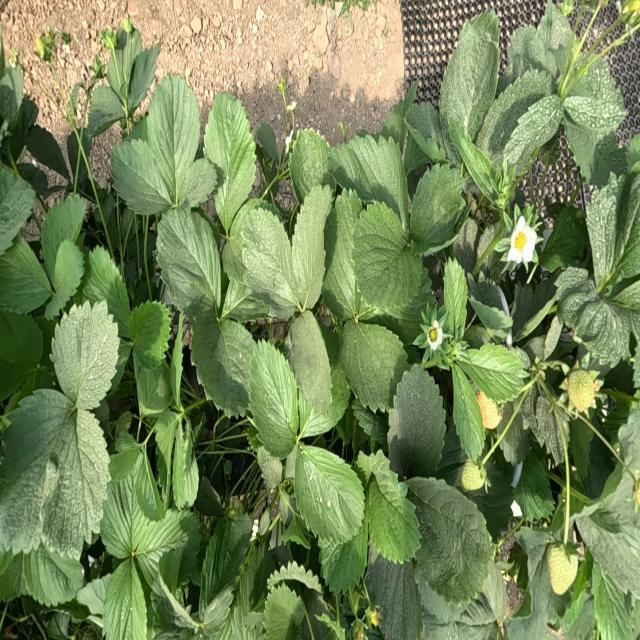Flowers: (508, 216, 538, 266), (476, 391, 502, 429), (285, 129, 294, 152), (288, 101, 296, 110)
Leaves: (0, 392, 109, 555), (406, 477, 491, 606), (439, 11, 499, 148), (223, 207, 297, 318), (353, 202, 423, 316), (577, 474, 639, 594), (329, 134, 408, 226), (51, 300, 118, 408), (556, 267, 629, 366), (205, 536, 275, 639), (204, 92, 255, 230), (156, 208, 221, 314), (295, 446, 364, 545), (191, 309, 255, 415), (479, 70, 552, 162), (388, 364, 446, 477), (147, 74, 199, 200), (359, 454, 419, 562), (425, 560, 507, 639), (586, 171, 639, 288), (340, 320, 407, 411), (249, 342, 298, 458), (100, 458, 155, 559), (286, 312, 333, 425), (323, 189, 363, 319), (290, 185, 331, 310), (136, 509, 199, 589), (410, 164, 465, 253), (565, 57, 627, 135), (367, 553, 422, 639), (202, 513, 253, 601), (109, 139, 168, 215), (449, 120, 499, 201), (83, 247, 129, 335), (456, 344, 527, 401), (23, 540, 83, 607), (1, 238, 51, 314), (499, 25, 556, 91), (41, 193, 85, 278), (1, 311, 43, 399), (102, 557, 147, 639), (470, 455, 513, 540), (593, 562, 639, 639), (290, 129, 333, 204), (323, 523, 367, 594), (540, 205, 587, 271), (127, 301, 170, 371), (452, 364, 483, 461), (45, 240, 83, 318), (1, 166, 35, 251), (405, 102, 452, 163), (514, 450, 554, 521), (106, 29, 142, 107), (379, 82, 417, 152), (513, 276, 555, 339), (531, 557, 570, 621), (537, 0, 572, 69), (263, 583, 305, 639), (172, 422, 198, 508), (127, 43, 159, 112), (154, 410, 181, 489), (26, 125, 67, 176), (86, 84, 123, 137), (136, 361, 171, 415), (536, 394, 563, 463), (444, 259, 467, 339), (587, 438, 613, 498), (566, 127, 596, 179), (517, 528, 549, 575), (404, 134, 429, 194), (0, 65, 24, 123), (506, 612, 555, 639), (170, 313, 183, 408), (195, 476, 223, 515), (19, 157, 47, 194), (259, 448, 282, 492), (256, 123, 277, 160), (545, 315, 562, 359), (67, 132, 78, 174), (82, 129, 91, 155)
Strawberries: (546, 545, 576, 595), (567, 370, 595, 411), (416, 309, 443, 351), (457, 460, 484, 491), (35, 27, 56, 62)
